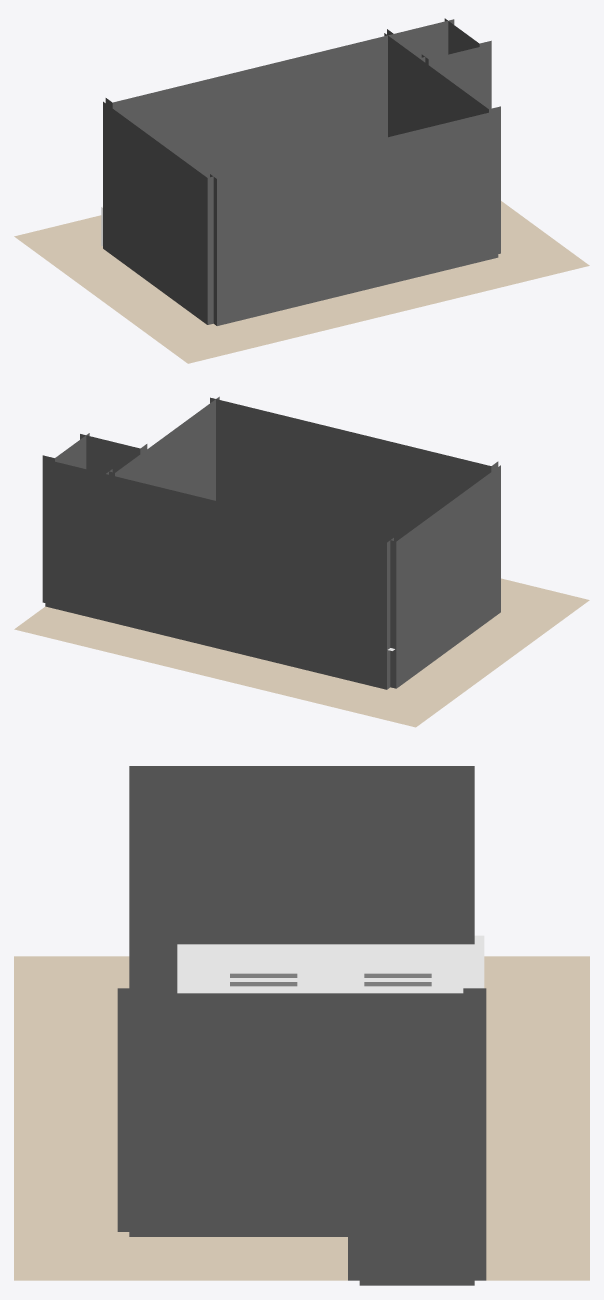
Rendered from ed0615ce-920a-4c81-8548-fe3e98e20bda.glb.
The picture shows the model from 3 angles, top to bottom: view 1: azimuth 30°, elevation 25°; view 2: azimuth 150°, elevation 25°; view 3: azimuth 270°, elevation 25°; orthographic projection. The views are drawn at different scales.
Visible parts, largest first — view 1: wall_dh_3, wall_dh_1, floor, wall_dh_4, wall_dh_2, wall_pr1_3, wall_pr1_1, wall_pr1_2; view 2: wall_dh_1, wall_dh_3, floor, wall_dh_4, wall_pr1_1, wall_dh_2, wall_pr1_3, wall_pr1_2, wall_pr1_4; view 3: floor, wall_dh_4, wall_dh_2, wall_pr1_2, table_1, table_4, wall_dh_3, wall_pr1_1, wall_pr1_3, wall_pr1_4, wall_dh_1.
Part boxes in pixels (x1,y1,x2,y2): wall_dh_3: [210, 110, 498, 325]; wall_dh_1: [105, 34, 393, 177]; floor: [14, 201, 589, 363]; wall_dh_4: [103, 101, 219, 324]; wall_dh_2: [384, 33, 500, 253]; wall_pr1_3: [421, 44, 488, 108]; wall_pr1_1: [387, 19, 454, 58]; wall_pr1_2: [444, 18, 491, 108]; wall_dh_1: [105, 474, 393, 689]; wall_dh_3: [210, 397, 498, 541]; floor: [14, 578, 589, 727]; wall_dh_4: [384, 465, 500, 688]; wall_pr1_1: [45, 459, 112, 620]; wall_dh_2: [109, 396, 219, 500]; wall_pr1_3: [80, 434, 147, 473]; wall_pr1_2: [42, 433, 89, 602]; wall_pr1_4: [103, 447, 149, 484]; floor: [14, 956, 589, 1280]; wall_dh_4: [129, 766, 474, 993]; wall_dh_2: [129, 993, 474, 1236]; wall_pr1_2: [359, 1042, 474, 1285]; table_1: [311, 935, 484, 993]; table_4: [177, 944, 349, 993]; wall_dh_3: [117, 988, 140, 1231]; wall_pr1_1: [463, 1037, 486, 1280]; wall_pr1_3: [348, 1037, 370, 1280]; wall_pr1_4: [359, 993, 474, 1041]; wall_dh_1: [463, 988, 486, 1036].
Size of the model in its own units: 8.12 by 2.8 by 6.
